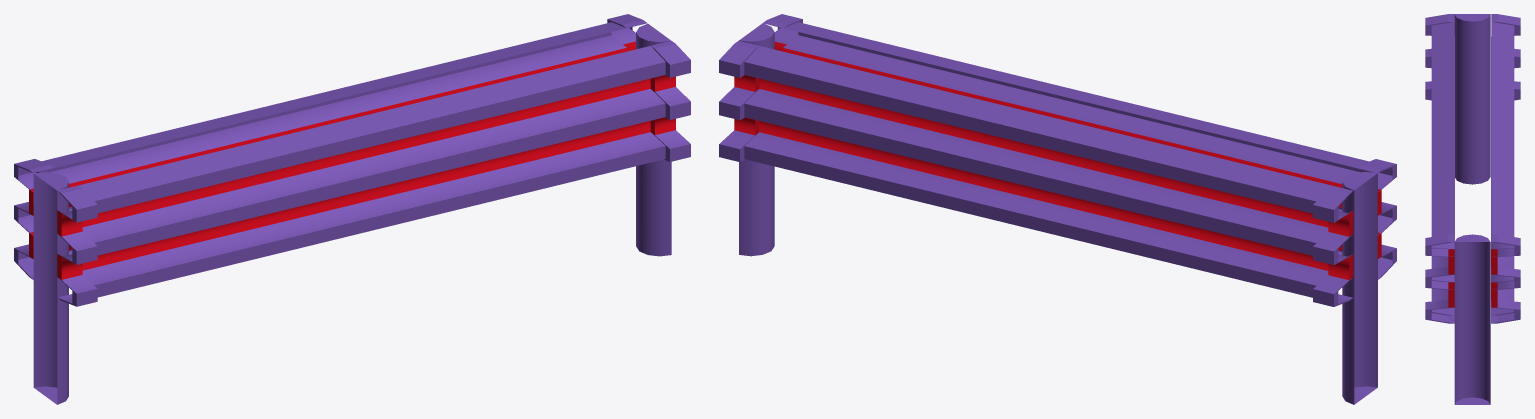
File: guardrail.fbx
3 views of the same model, side by side, from view 1: azimuth 30°, elevation 25°; view 2: azimuth 150°, elevation 25°; view 3: azimuth 270°, elevation 25° (orthographic). The views are drawn at different scales.
Parts seen in each view (by area): view 1: guardrail_F, guardrail_B, pillar; view 2: guardrail_B, guardrail_F, pillar; view 3: pillar, guardrail_F, guardrail_B.
Boxes of the visible parts, left/top/right/bottom form: guardrail_F: left=57, top=41, right=690, bottom=306; guardrail_B: left=14, top=14, right=647, bottom=279; pillar: left=33, top=23, right=671, bottom=404; guardrail_B: left=719, top=40, right=1353, bottom=306; guardrail_F: left=763, top=14, right=1396, bottom=279; pillar: left=739, top=23, right=1377, bottom=404; pillar: left=1454, top=14, right=1490, bottom=404; guardrail_F: left=1425, top=14, right=1454, bottom=323; guardrail_B: left=1491, top=14, right=1520, bottom=323.
Size of the model in its own units: 300 by 100 by 53.08.
